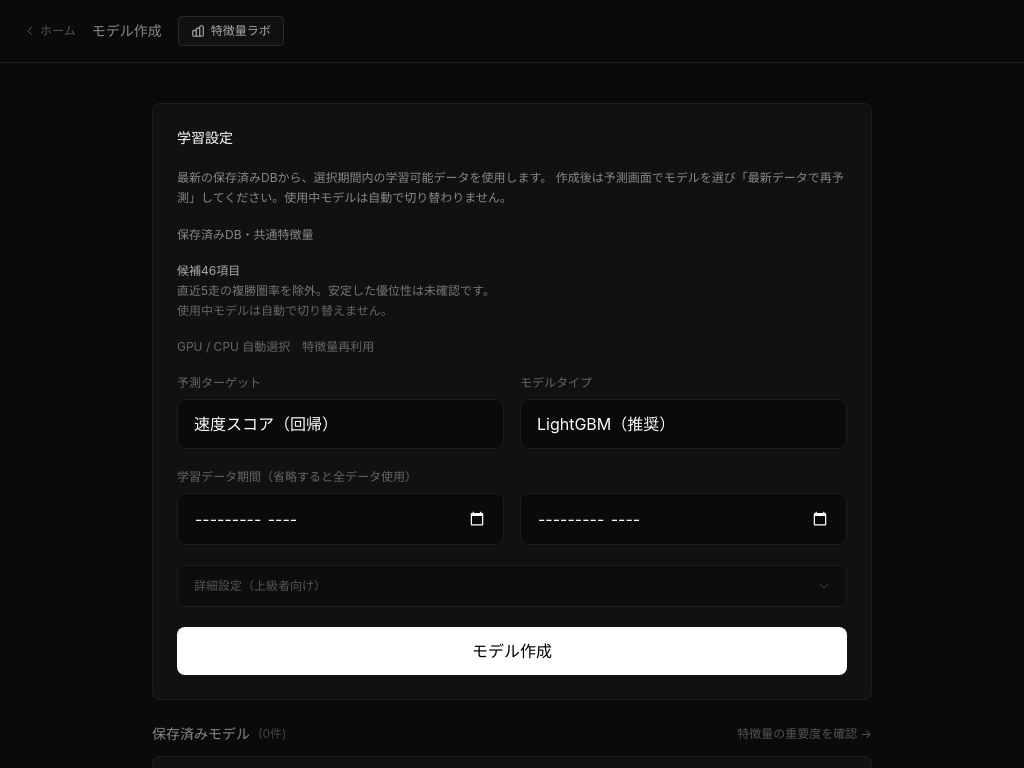
Test case: normal model creation using the shared DB feature pipeline › shows shared completed metrics, calibration and compute metadata without switching the active model
The width and height of the screenshot is (1024, 768).
Click the button "モデル作成" at (512, 651), box x1=177 y1=627 x2=847 y2=675
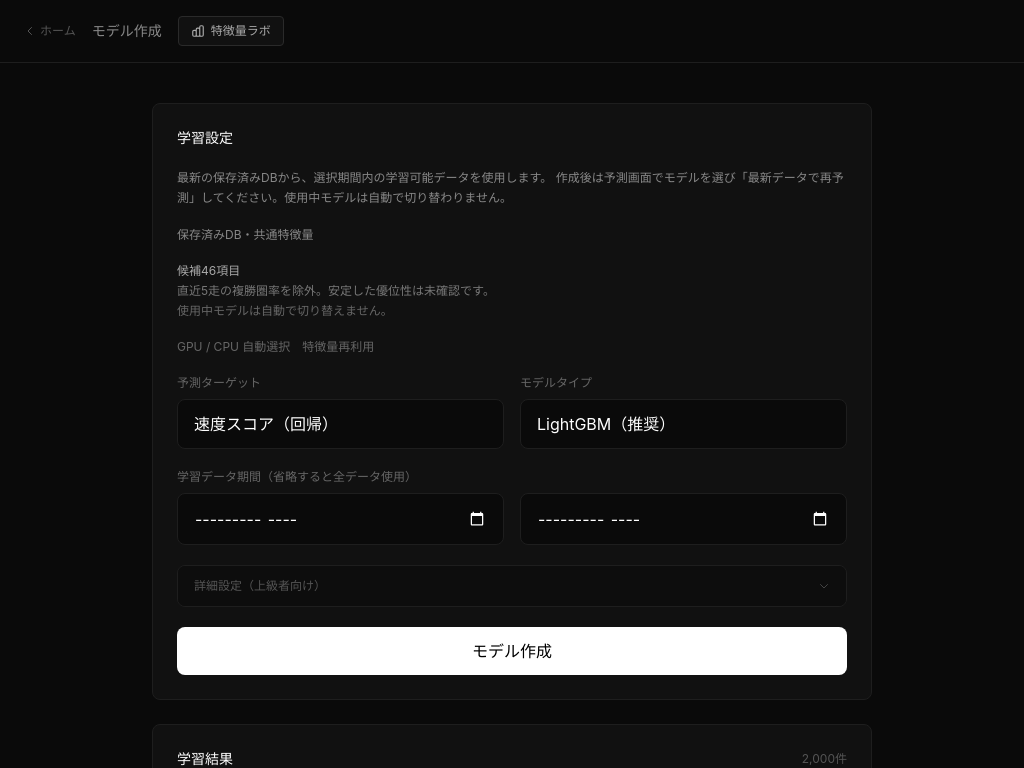
Now the text "学習結果" is shown, box x1=177 y1=749 x2=233 y2=767
